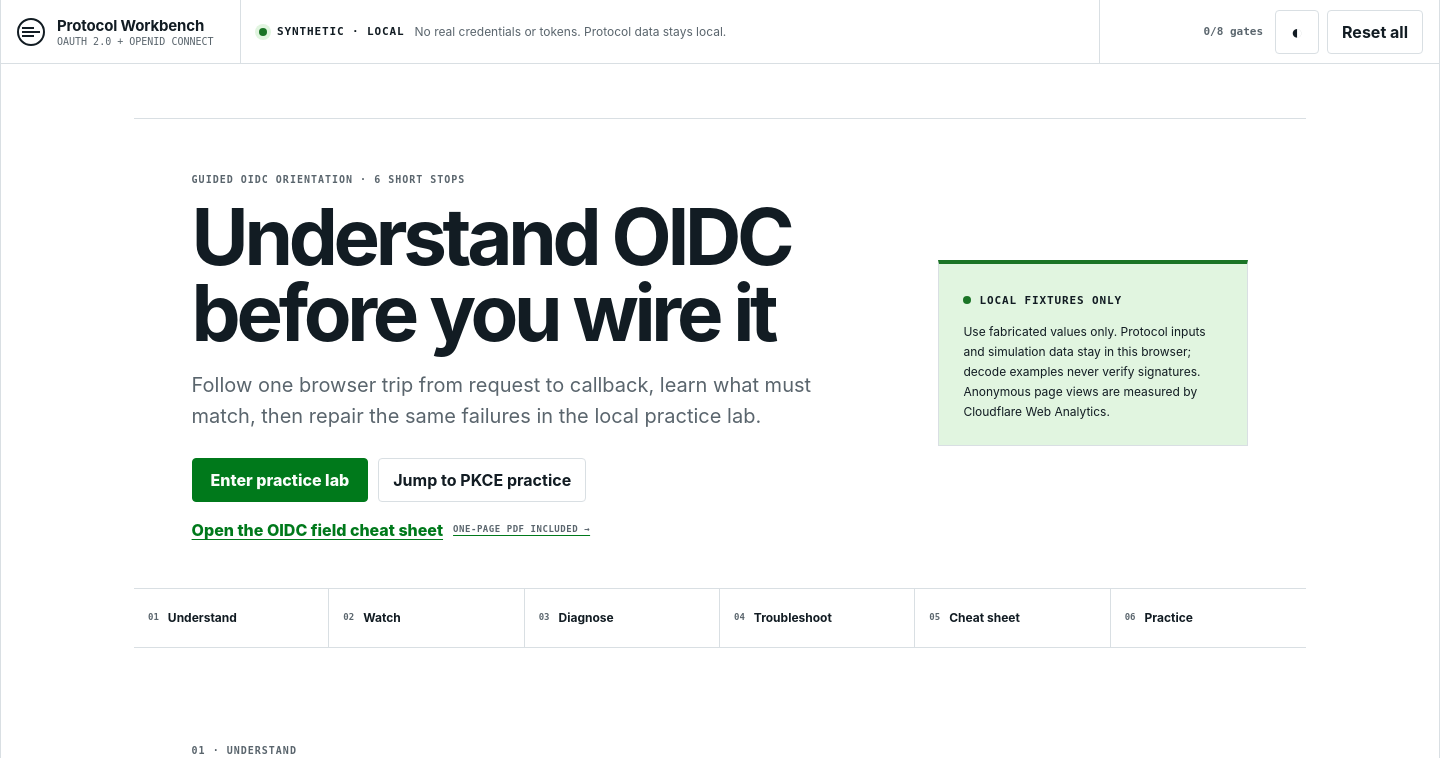
Test case: Protocol Workbench › changes deterministic capstone scenario data when the seed changes
Click the button "Enter practice lab": (280, 480) [192,458,368,502]
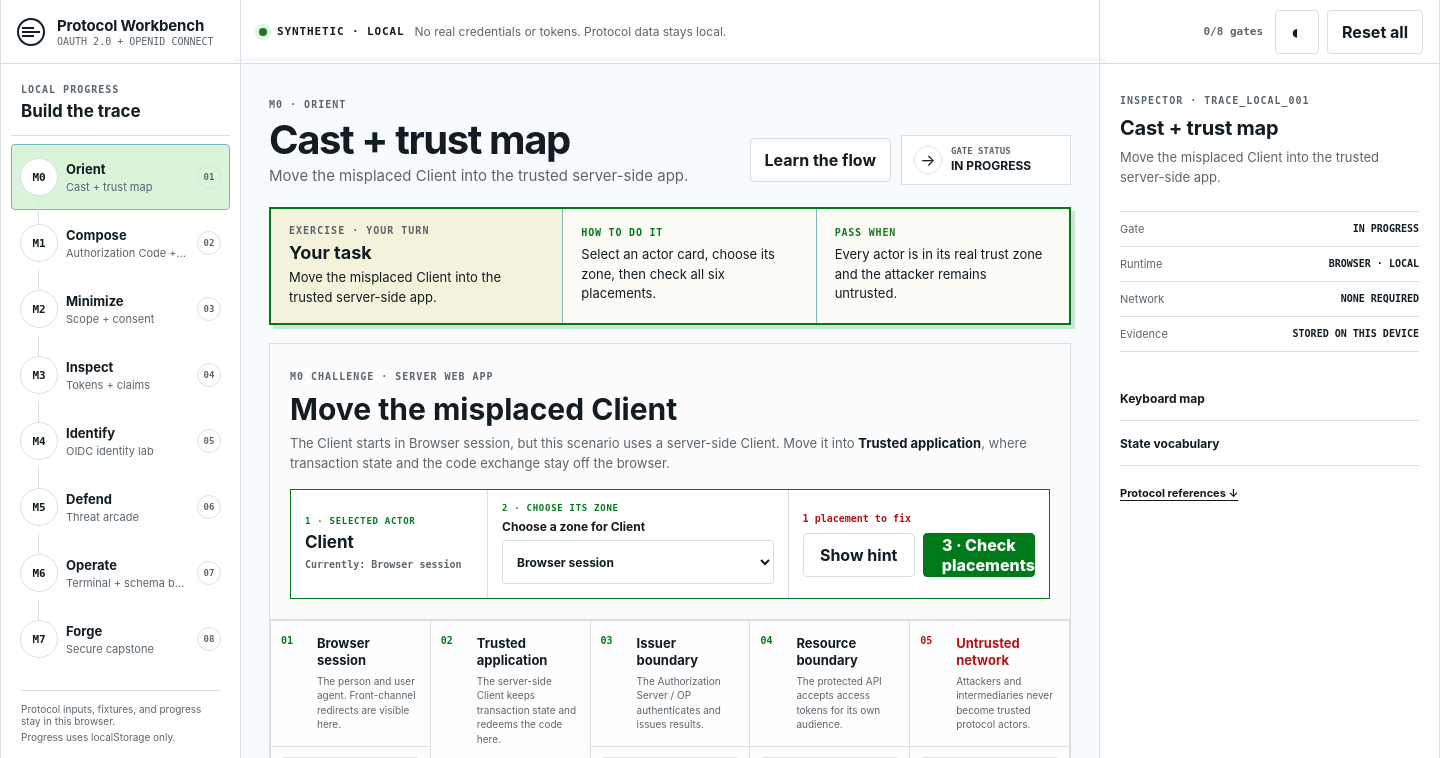
Click the button "M7 Forge Secure capstone 08": (120, 639) [11,606,230,672]
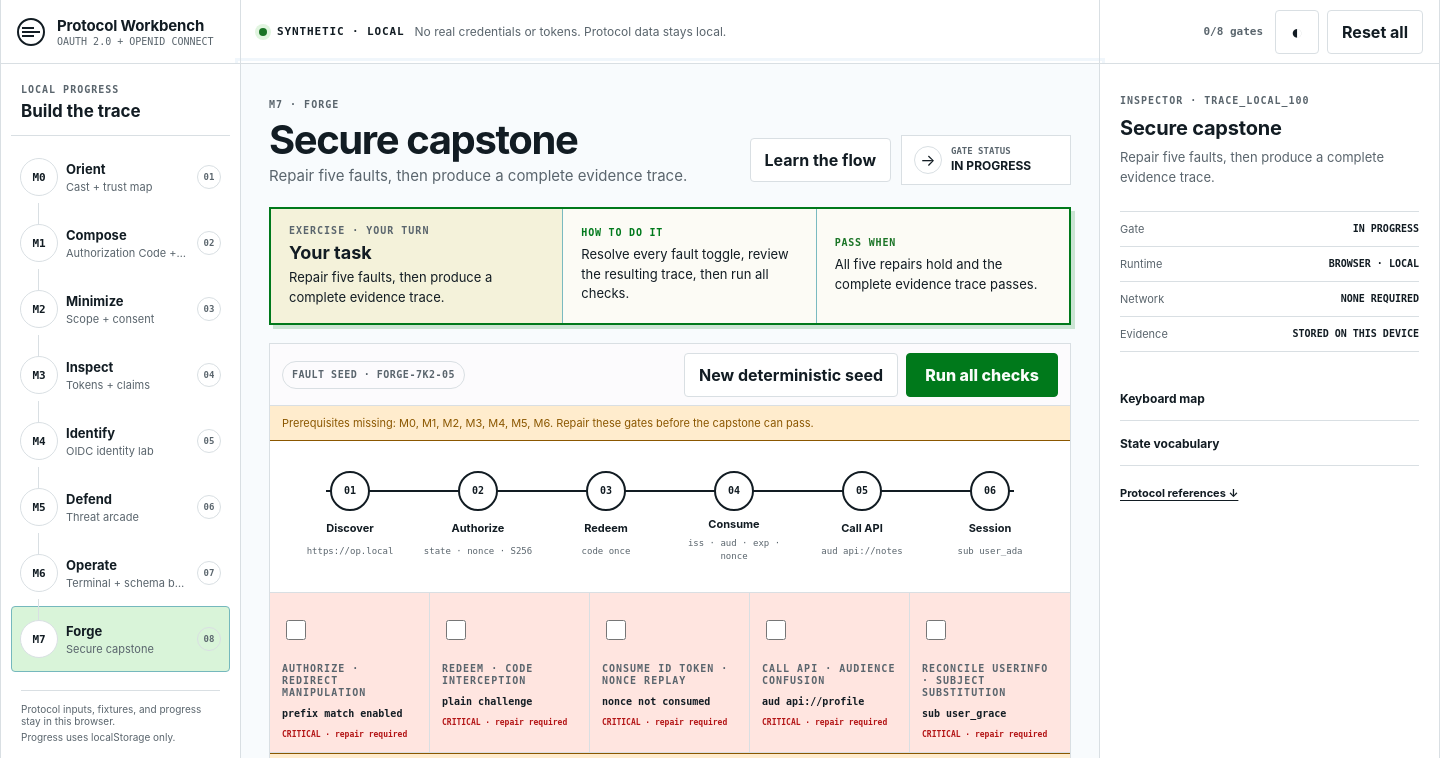
expect the text "prefix match enabled" is shown: met, box [282,707,417,722]
Click the button "New deterministic seed": (791, 374) [684,352,898,396]
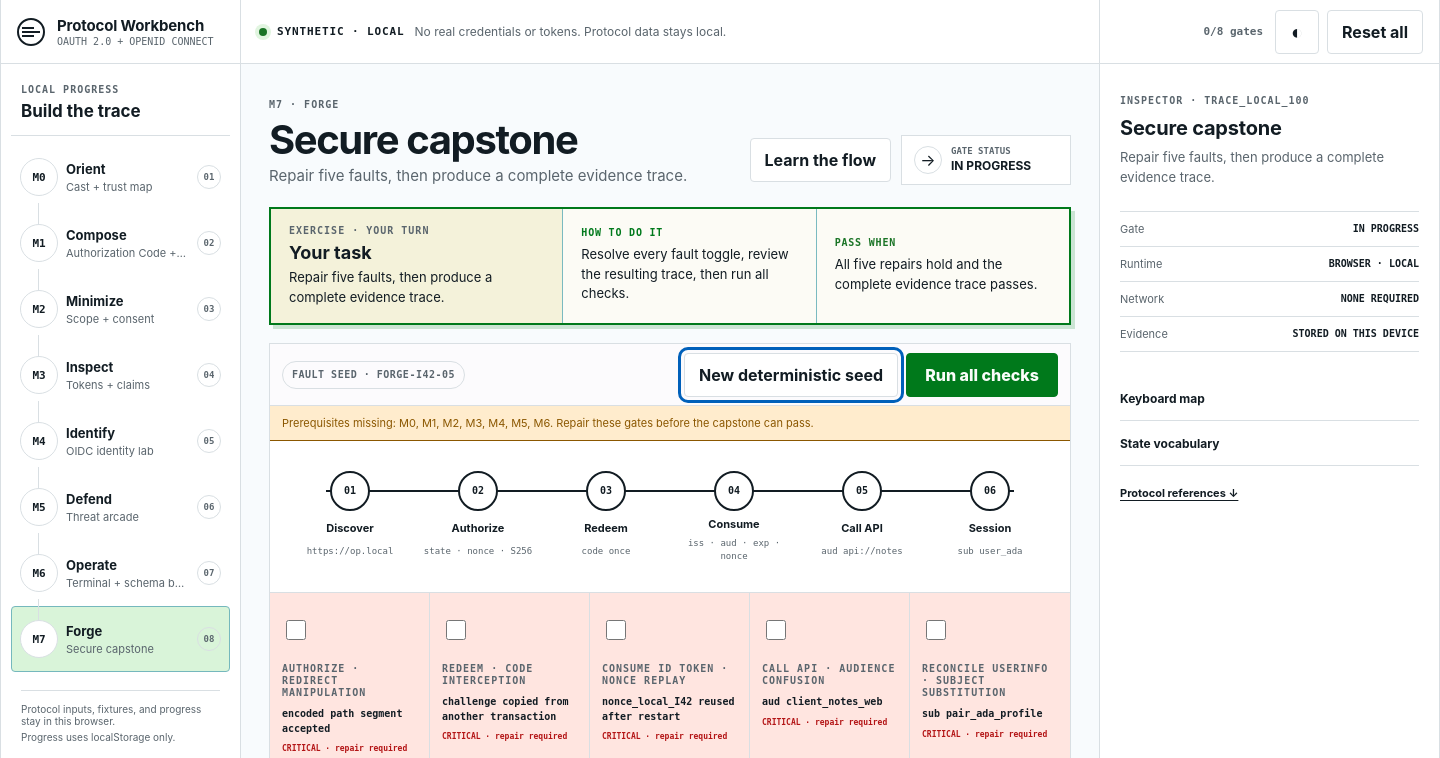
expect the text "prefix match enabled" is gone: met
expect the text "encoded path segment accepted" is shown: met, box [282,707,417,736]
